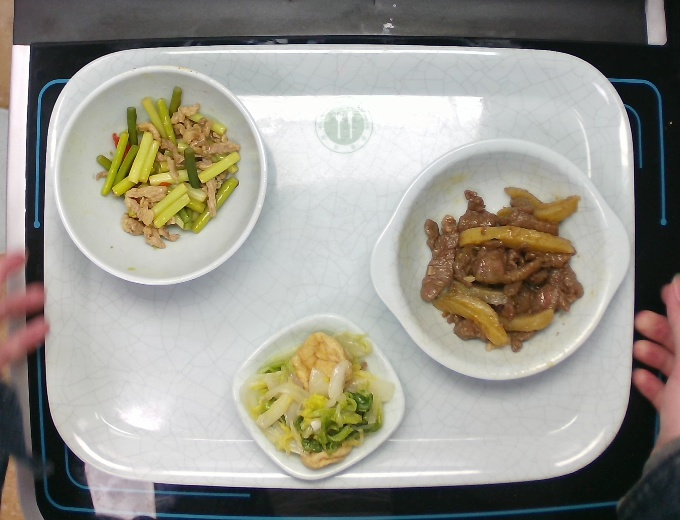JYsf-Fan_Wan: (50, 64, 268, 288)
JYsf-Shuang_Er_Wan: (366, 136, 633, 382)
JYsf-Si_Fang_Die: (230, 311, 408, 482)
